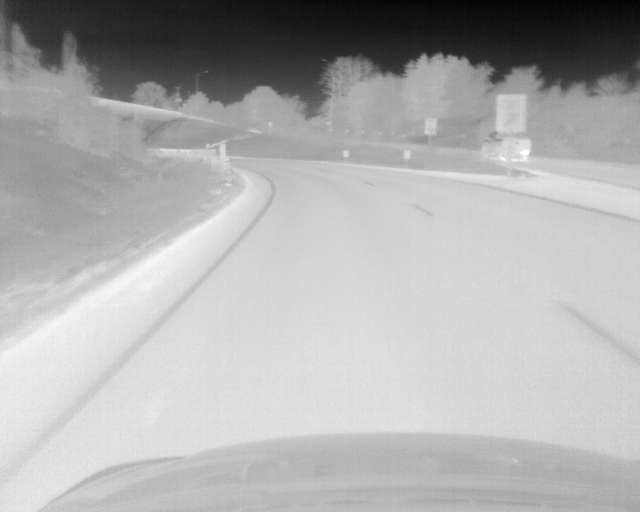car: (479, 129, 532, 161)
